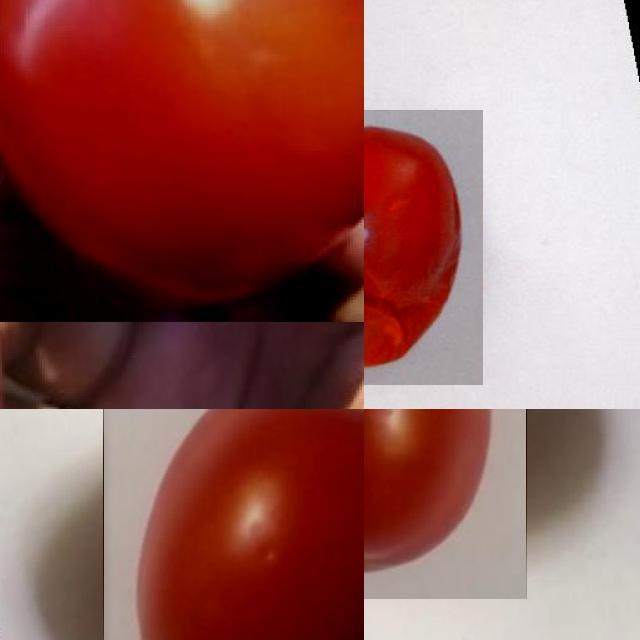Fresh Tomato: (0, 0, 364, 321), (103, 409, 364, 640), (364, 409, 527, 599)
Rotten Tomato: (364, 109, 482, 385)
